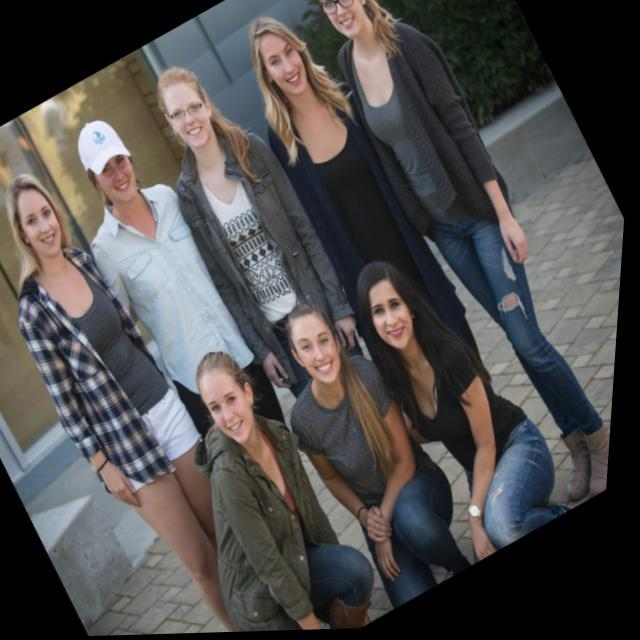Nonhelmet: (358, 239, 428, 364), (192, 342, 268, 445), (285, 284, 352, 390), (3, 166, 72, 268), (243, 10, 322, 98), (152, 62, 228, 147)
